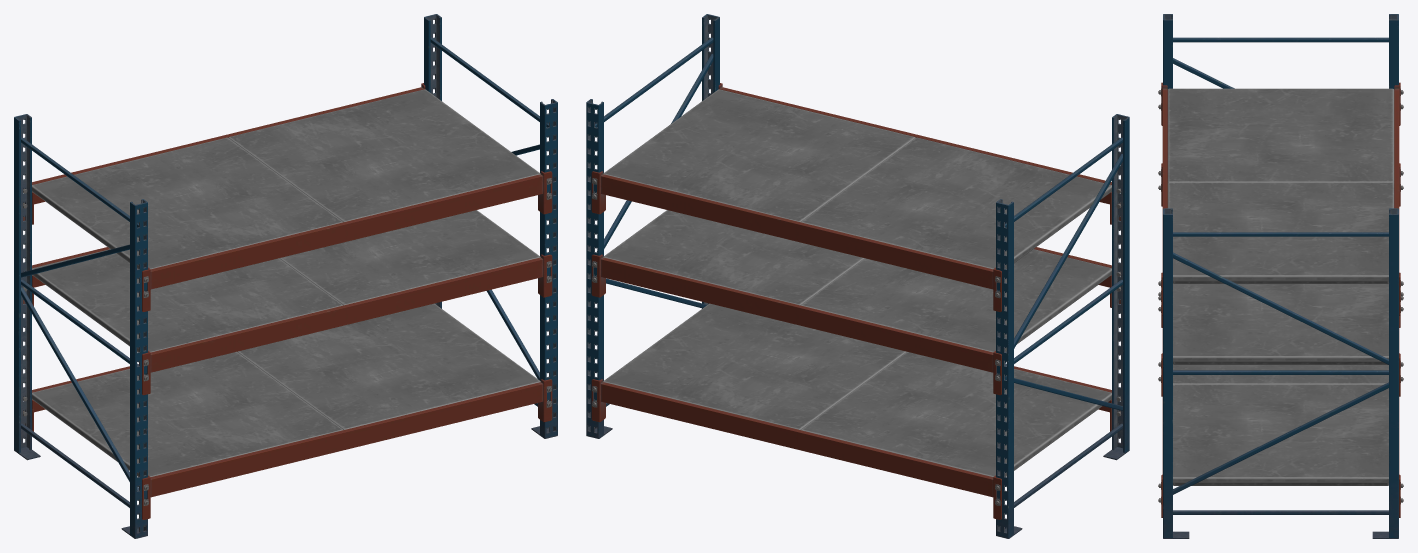
Rendered from rack_large_empty_a02.glb.
3 views of the same model, side by side, from view 1: azimuth 30°, elevation 25°; view 2: azimuth 150°, elevation 25°; view 3: azimuth 270°, elevation 25° (orthographic). The views are drawn at different scales.
Visible parts, largest first — view 1: sm_rack_a02_mesh_00; view 2: sm_rack_a02_mesh_00; view 3: sm_rack_a02_mesh_00.
Boxes of the visible parts, box(x1,y1,x2,y2) form: sm_rack_a02_mesh_00: box(14, 14, 557, 538); sm_rack_a02_mesh_00: box(586, 14, 1129, 538); sm_rack_a02_mesh_00: box(1158, 14, 1403, 538).
Size of the model in its own units: 4 by 3.01 by 2.07.
3 materials, 3 textured.
